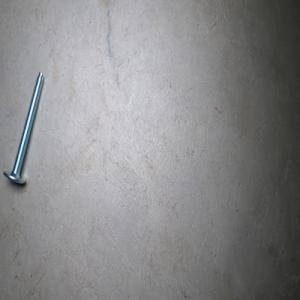Bolt: (2, 70, 44, 184)
